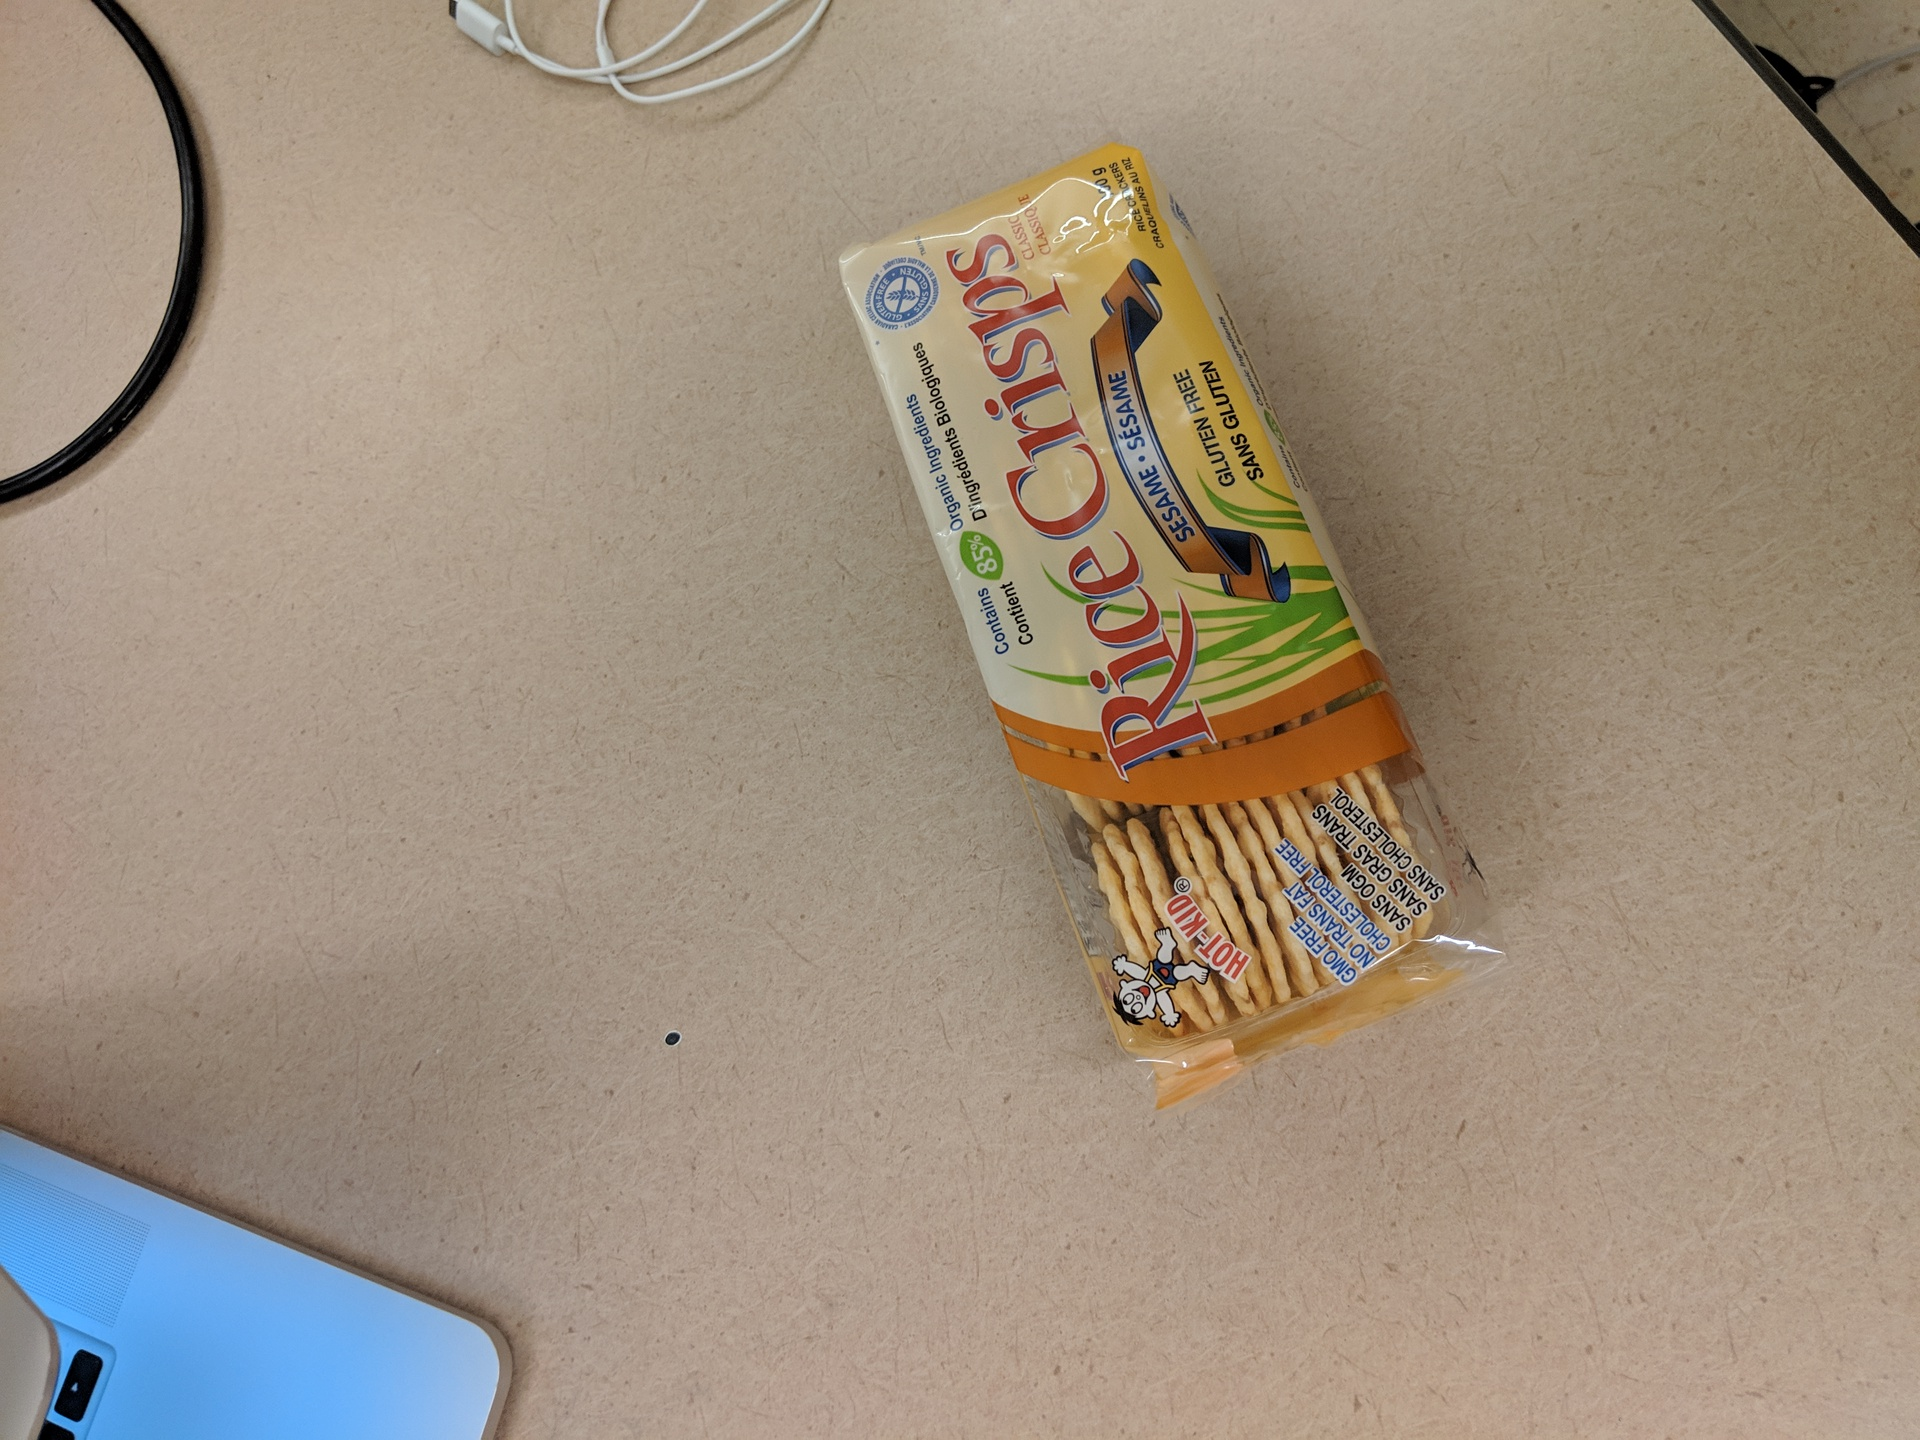hot_kid_rice_crisps_sesame: (835, 140, 1518, 1115)
